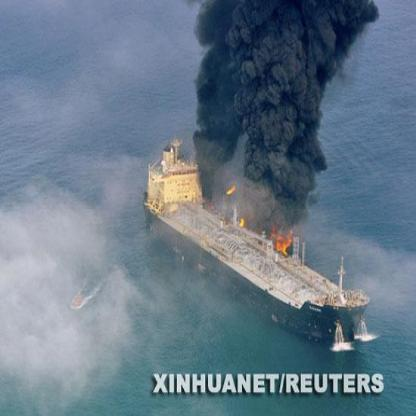fire: (268, 227, 290, 254), (224, 180, 236, 194)
smoke: (189, 5, 383, 226)
